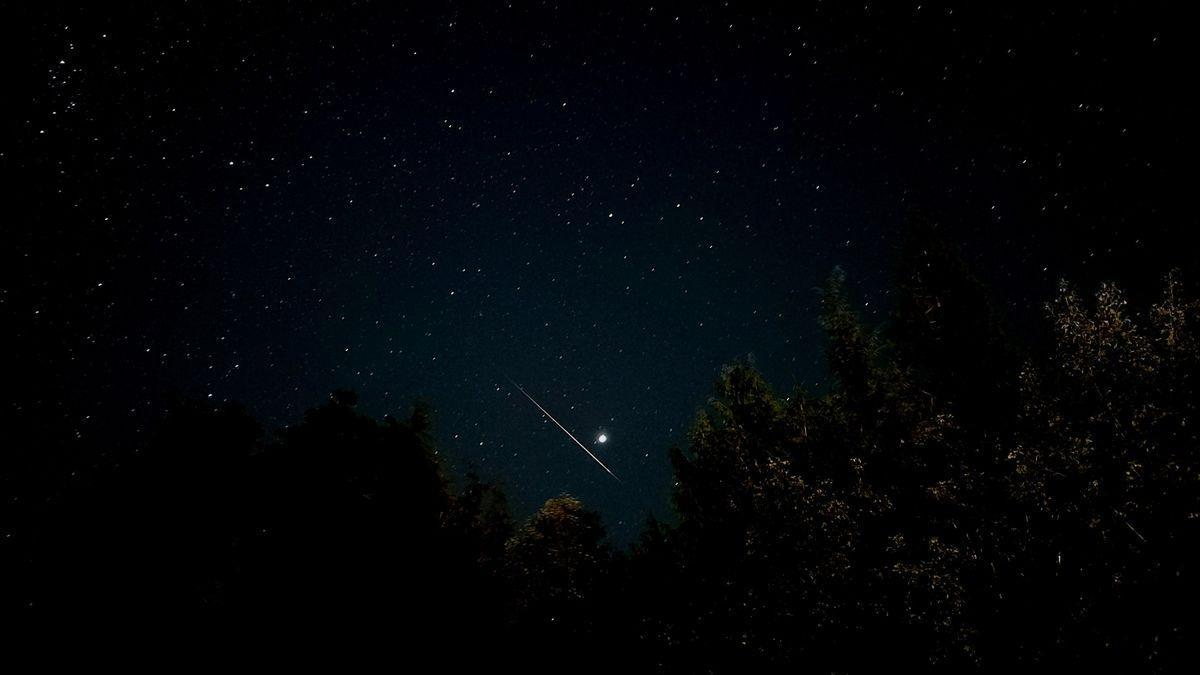meteorite: (489, 377, 634, 489)
